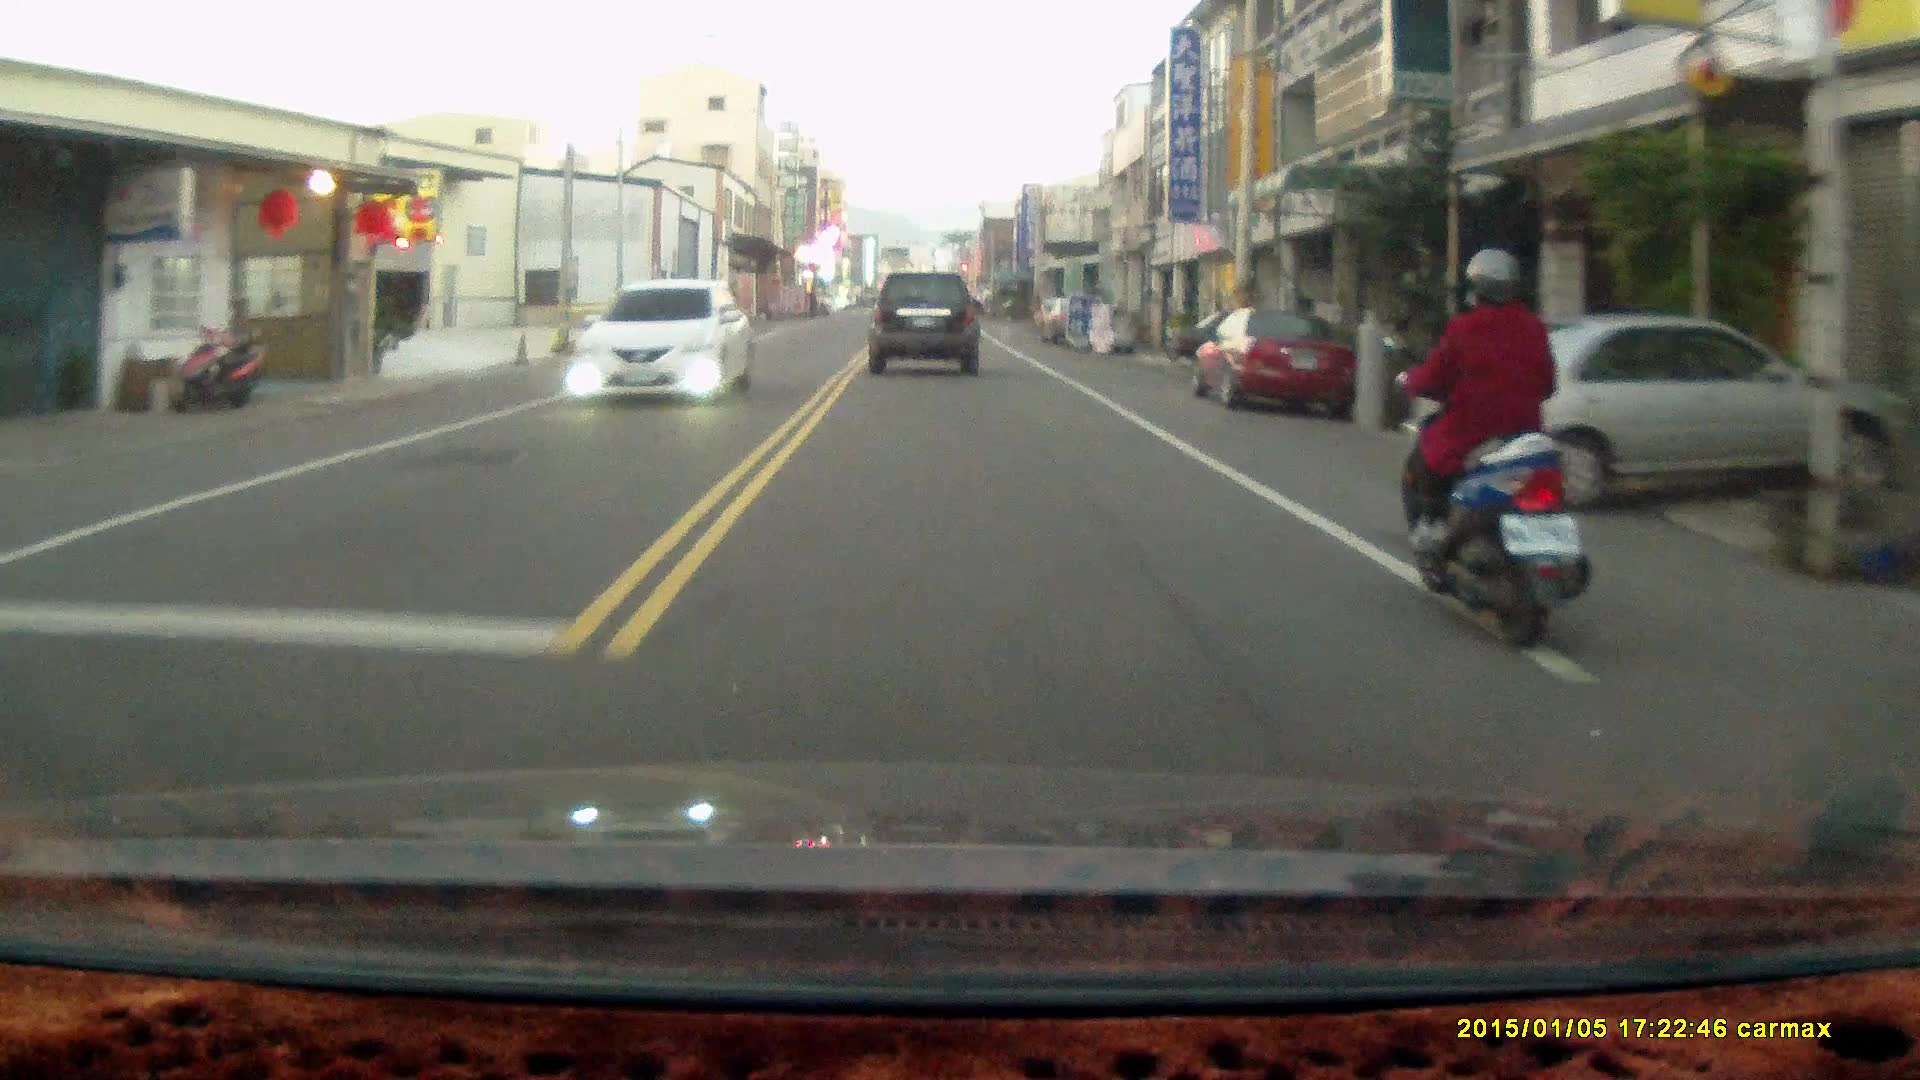rider: (1380, 241, 1591, 650)
vehicle: (1407, 314, 1869, 521), (577, 281, 756, 404), (1191, 304, 1357, 413), (869, 268, 984, 376)
